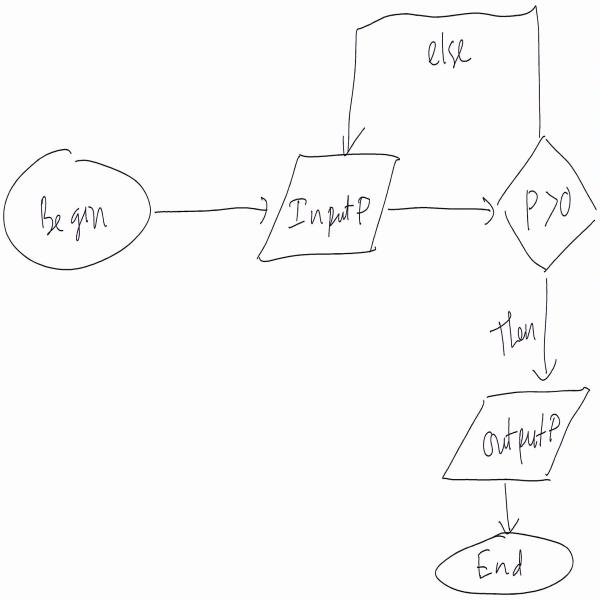arrow: (156, 195, 270, 224), (342, 27, 366, 159), (390, 194, 493, 224), (540, 272, 558, 382), (496, 481, 519, 533)
data: (261, 153, 397, 262), (444, 389, 592, 482)
decision: (497, 135, 600, 273)
terminator: (2, 150, 153, 271), (424, 533, 575, 594)
text: (36, 182, 110, 238), (484, 409, 557, 458), (289, 190, 369, 232), (520, 182, 574, 226), (490, 308, 538, 353), (419, 33, 470, 66), (474, 551, 526, 582)
